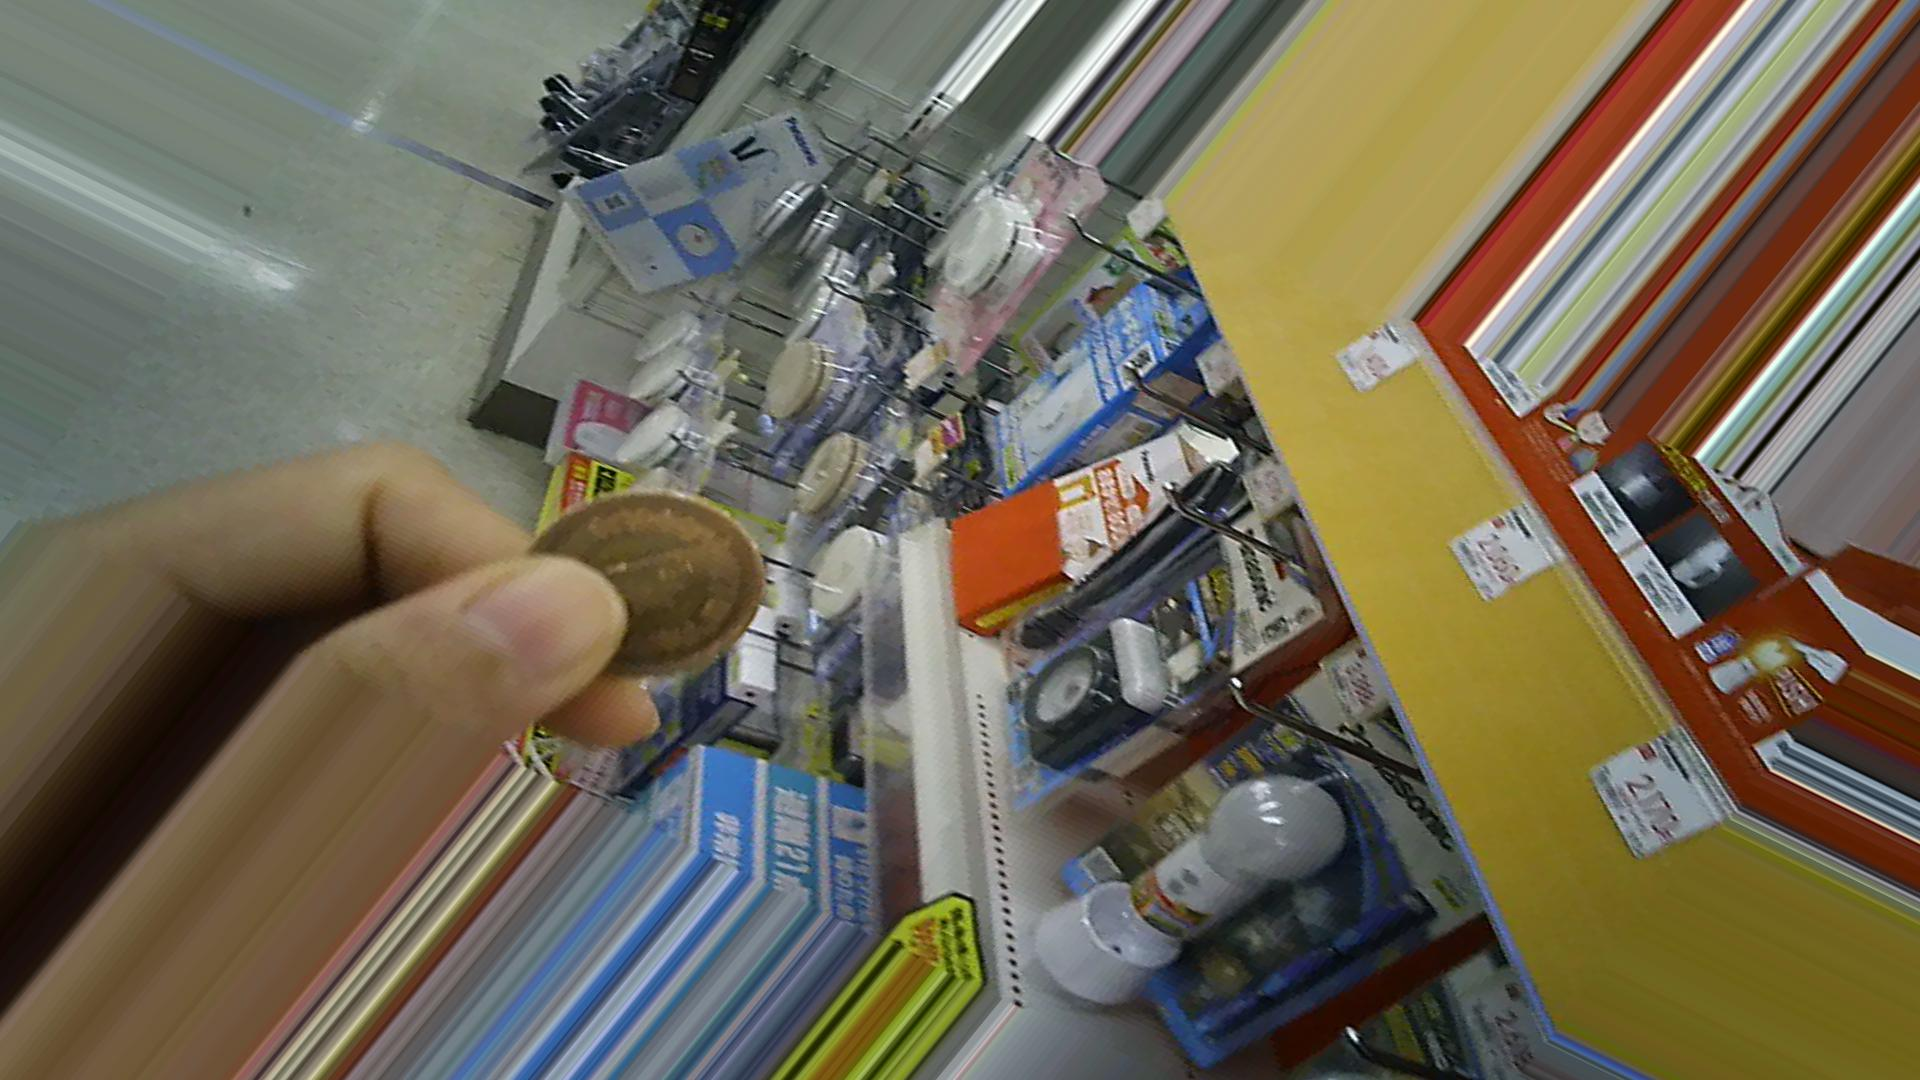10 Yen: (520, 477, 767, 703)
